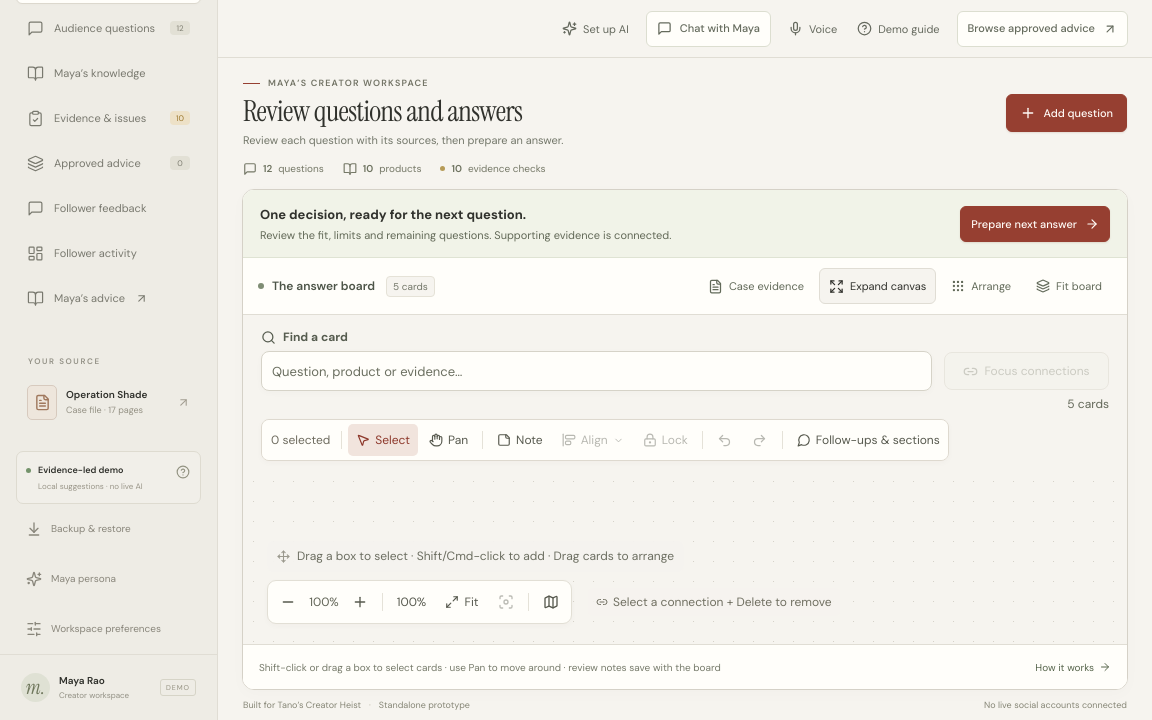
Scenario: Persona integration in the creator workspace › shows the source-backed persona and identifies synthetic speech and proposed copy
(page scrolled)
Click the button "Maya persona".
click(108, 579)  # box x1=16 y1=554 x2=201 y2=604
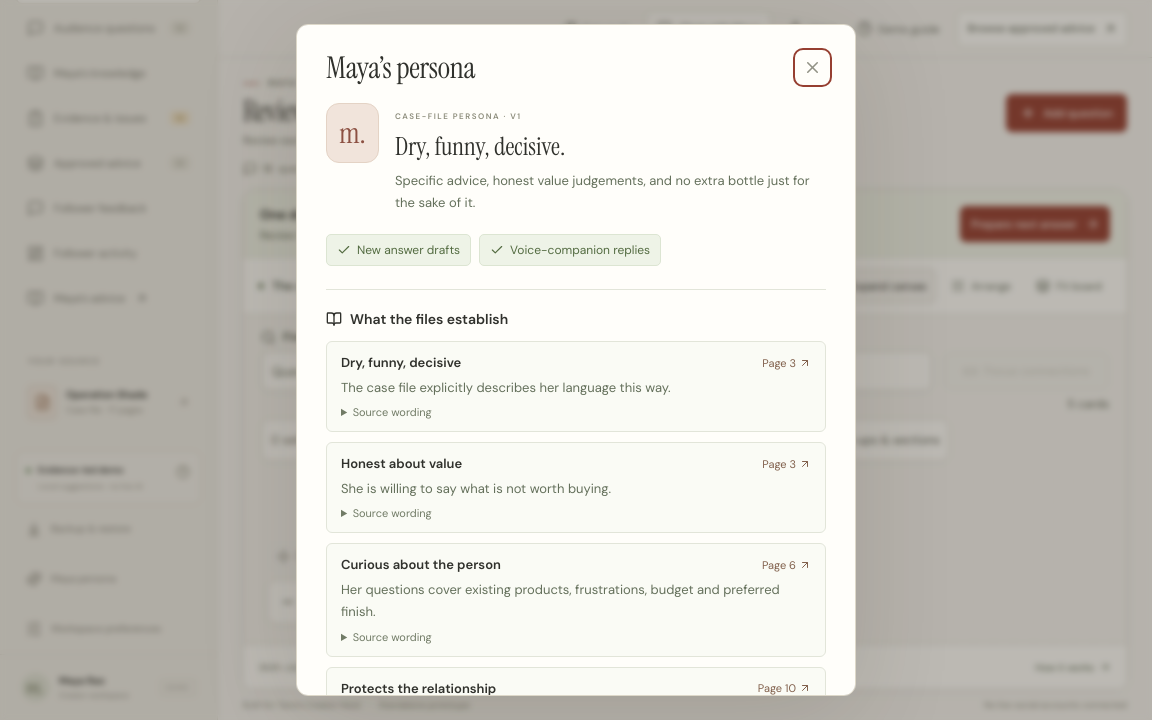
Now the heading "Maya’s persona" is shown, box x1=326 y1=51 x2=475 y2=84
Now the text "New answer drafts" is shown, box x1=326 y1=234 x2=471 y2=266
Now the text "Voice-companion replies" is shown, box x1=479 y1=234 x2=661 y2=266
